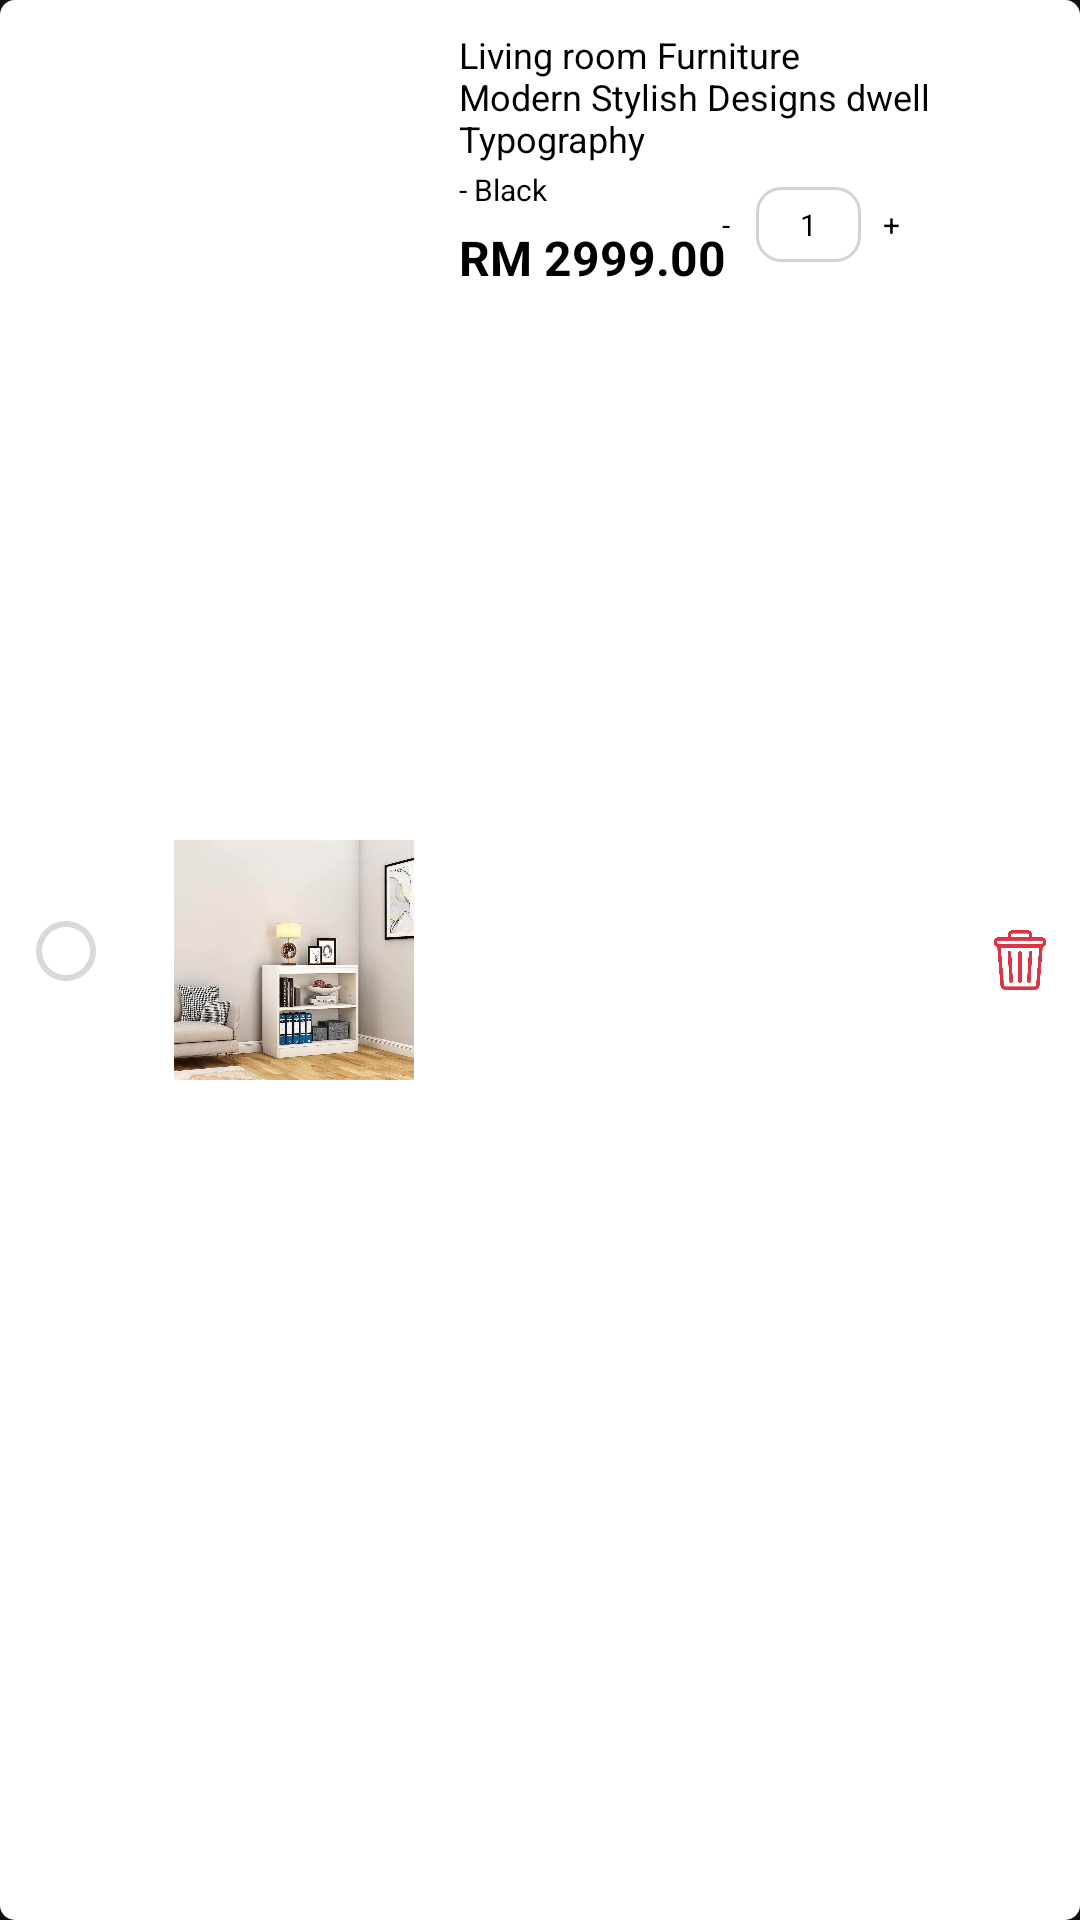

Screen size 1080w x 1920h. Icon name, then its center in pixels as point (x, y):
Delete: point (1020, 960)
product: point (294, 960)
